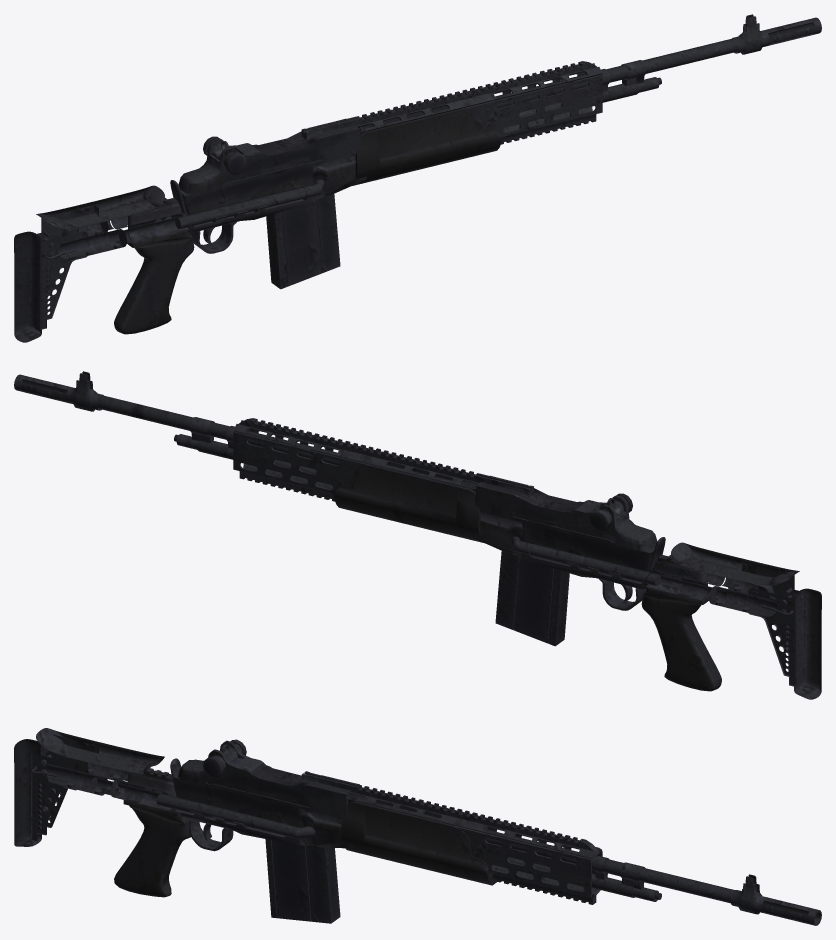
File: M39_EMR.fbx
3 renders of one model, top to bottom at view 1: azimuth 30°, elevation 25°; view 2: azimuth 150°, elevation 25°; view 3: azimuth 330°, elevation 25°, orthographic.
Visible parts, largest first — view 1: Body, Stock, Grip, Barrel, Mag, Handle; view 2: Body, Stock, Grip, Barrel, Mag, Handle; view 3: Body, Stock, Grip, Barrel, Mag, Handle.
Boxes of the visible parts, x1,y1,x2,y2 form: Body: (127, 61, 602, 253); Stock: (14, 185, 306, 342); Grip: (352, 108, 502, 185); Barrel: (363, 14, 821, 129); Mag: (266, 194, 340, 289); Handle: (114, 231, 194, 334); Body: (233, 418, 708, 610); Stock: (529, 542, 821, 699); Grip: (333, 465, 483, 542); Barrel: (14, 371, 451, 482); Mag: (495, 551, 569, 646); Handle: (641, 588, 721, 691); Body: (123, 739, 602, 904); Stock: (14, 728, 286, 846); Grip: (341, 801, 498, 885); Barrel: (363, 799, 821, 925); Mag: (265, 839, 340, 923); Handle: (114, 805, 190, 897).
Bounding box in the file's own units: 796 × 160 × 48.
Materials: 1 (1 with a texture image).
